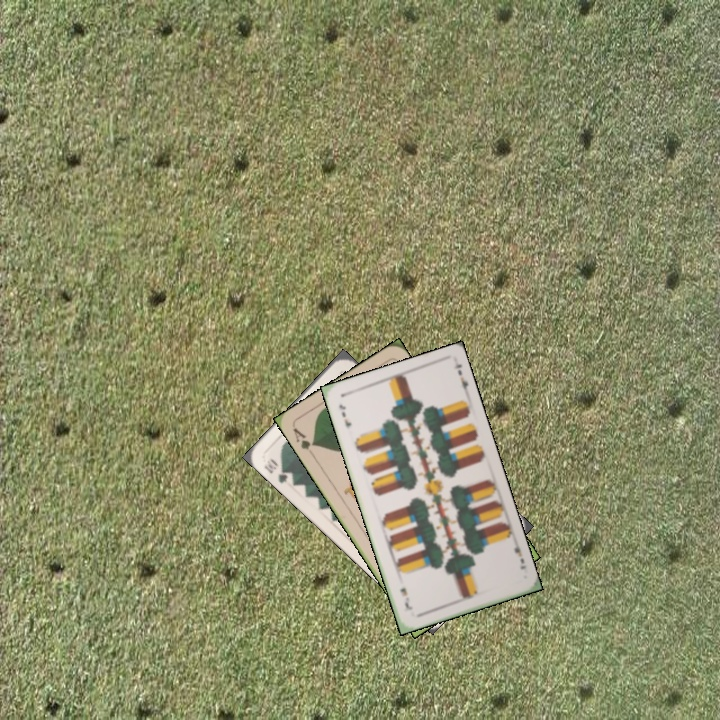E7: (510, 537, 529, 572), (334, 400, 354, 430)
G10: (260, 455, 296, 486)
GA: (289, 424, 318, 459)
